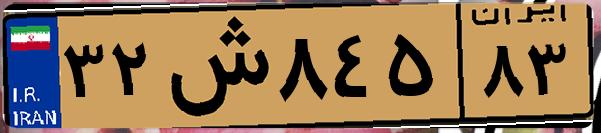2: (110, 28, 158, 98)
3: (57, 26, 110, 100), (525, 38, 570, 115)
4: (330, 28, 385, 110)
5: (385, 28, 445, 110)
8: (270, 28, 330, 110), (475, 38, 525, 113)
ش: (158, 12, 270, 120)
